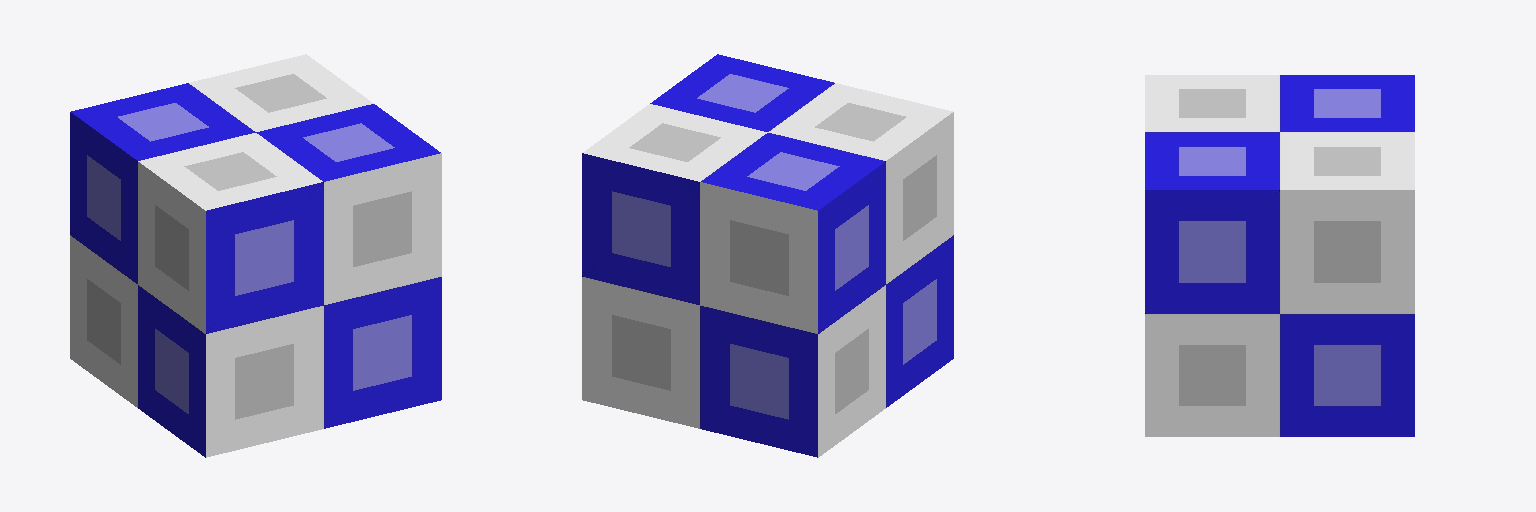
3 renders of one model, left to right at view 1: azimuth 30°, elevation 25°; view 2: azimuth 150°, elevation 25°; view 3: azimuth 270°, elevation 25°, orthographic.
Parts seen in each view (by area): view 1: Box01; view 2: Box01; view 3: Box01.
Part boxes in pixels (x1,y1,x2,y2): Box01: (70, 54, 441, 457); Box01: (582, 54, 953, 457); Box01: (1145, 75, 1414, 436).
Bounding box in the file's own units: 3.05 × 3.05 × 3.02.
Materials: 1 (1 with a texture image).